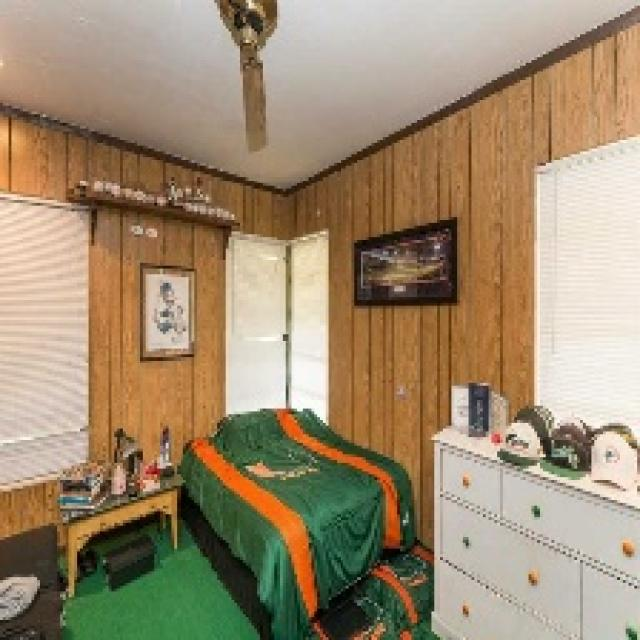Bed: (177, 406, 414, 637)
